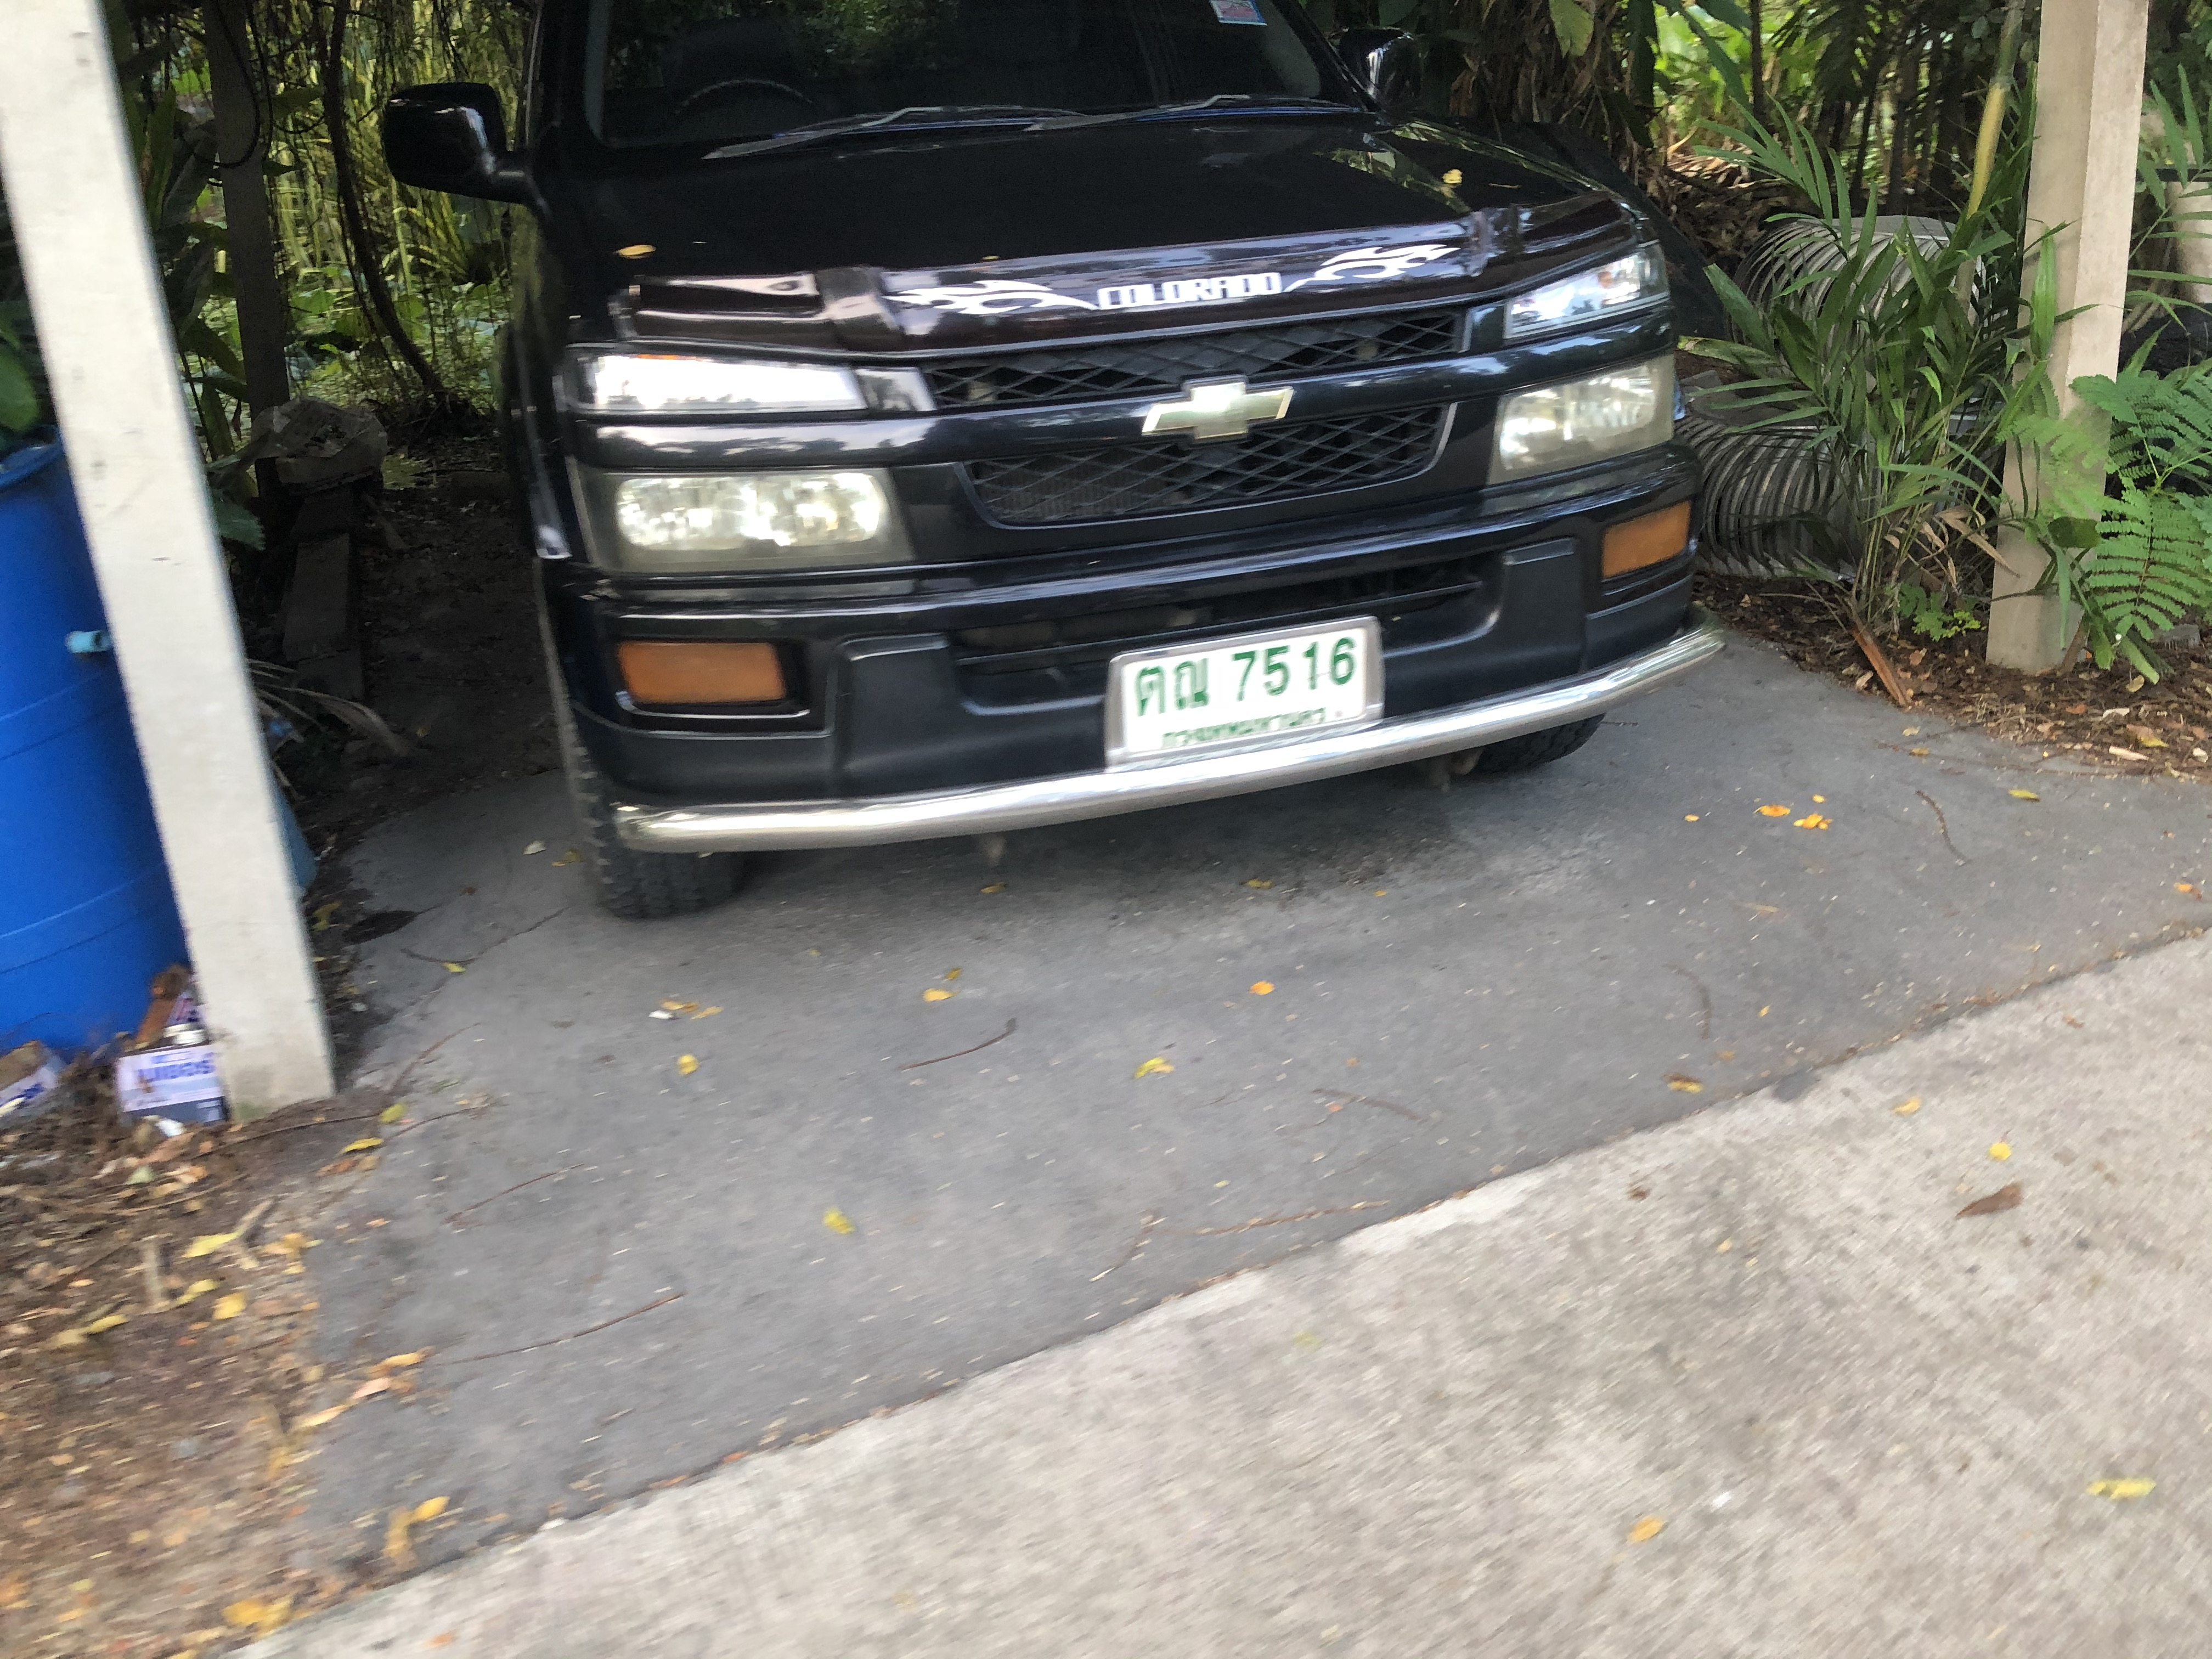in: (1122, 636, 1372, 742)
out: (1097, 619, 1407, 760)
